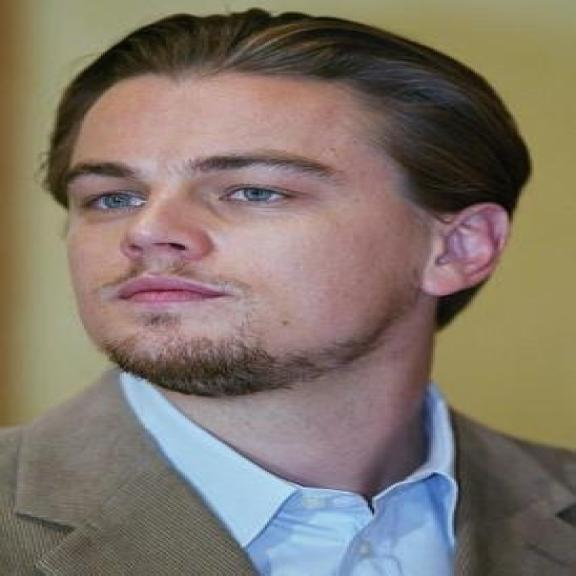face: (54, 63, 520, 400)
